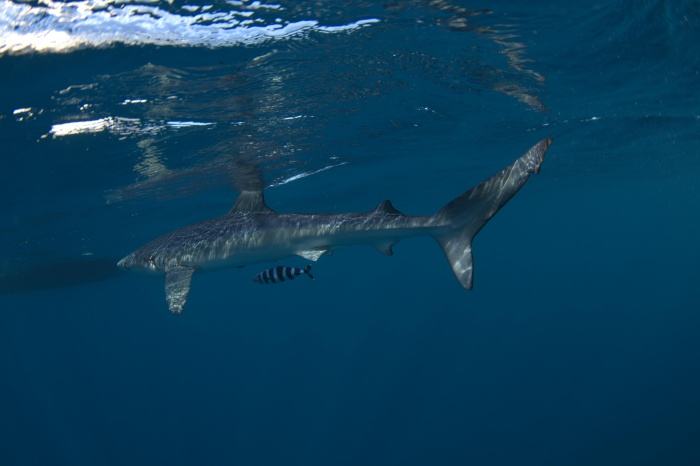Azul: (72, 133, 573, 330), (181, 219, 480, 399)
